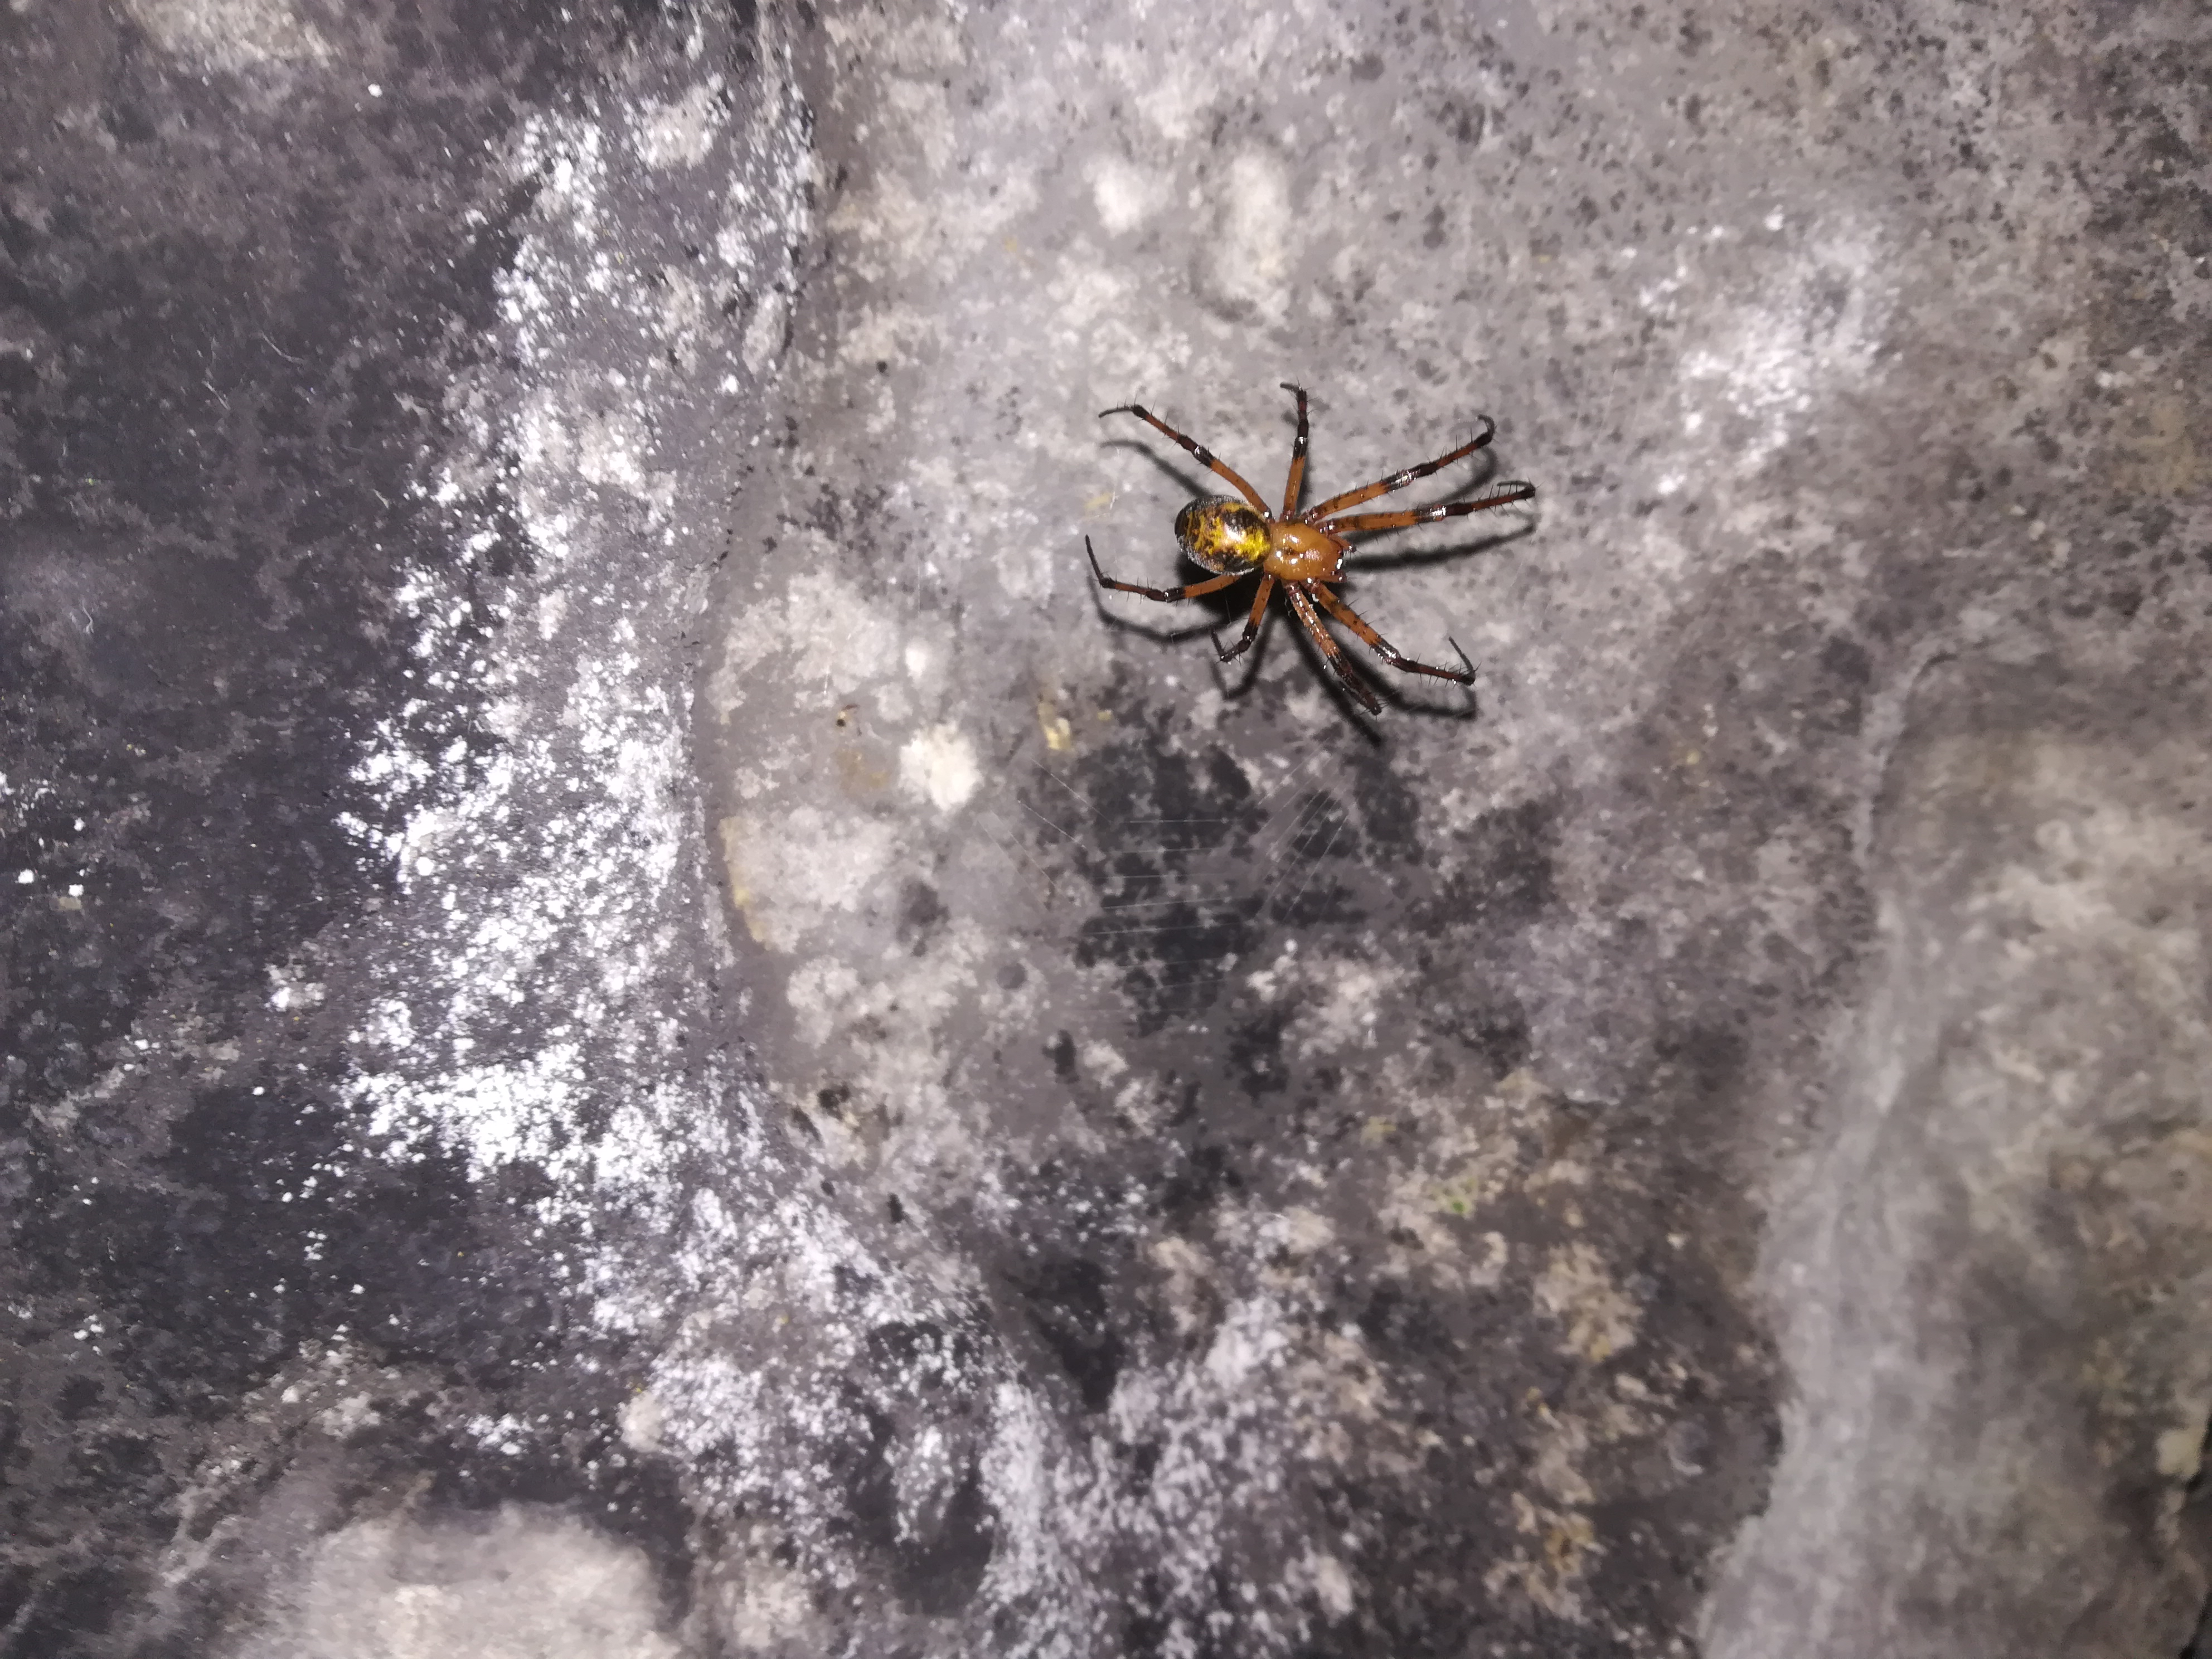spider: (1073, 340, 1566, 762)
